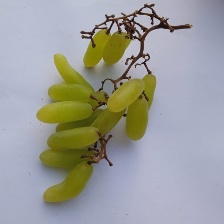grapes: (35, 38, 177, 196)
